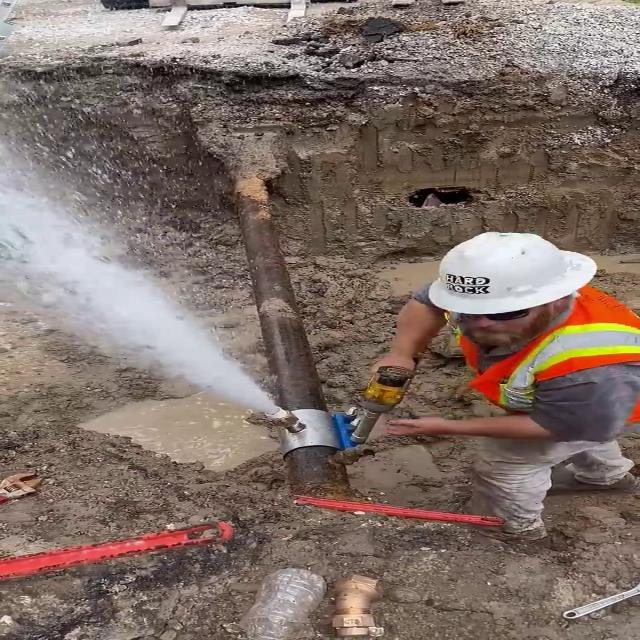leak: (0, 124, 277, 415)
